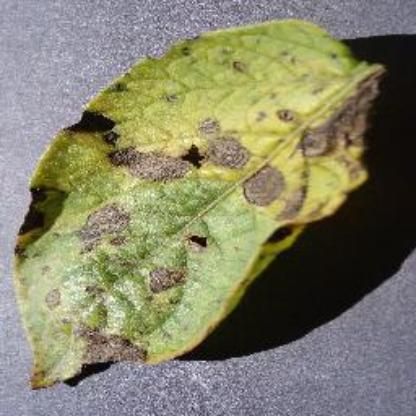Early-Blight: (14, 14, 400, 402)
